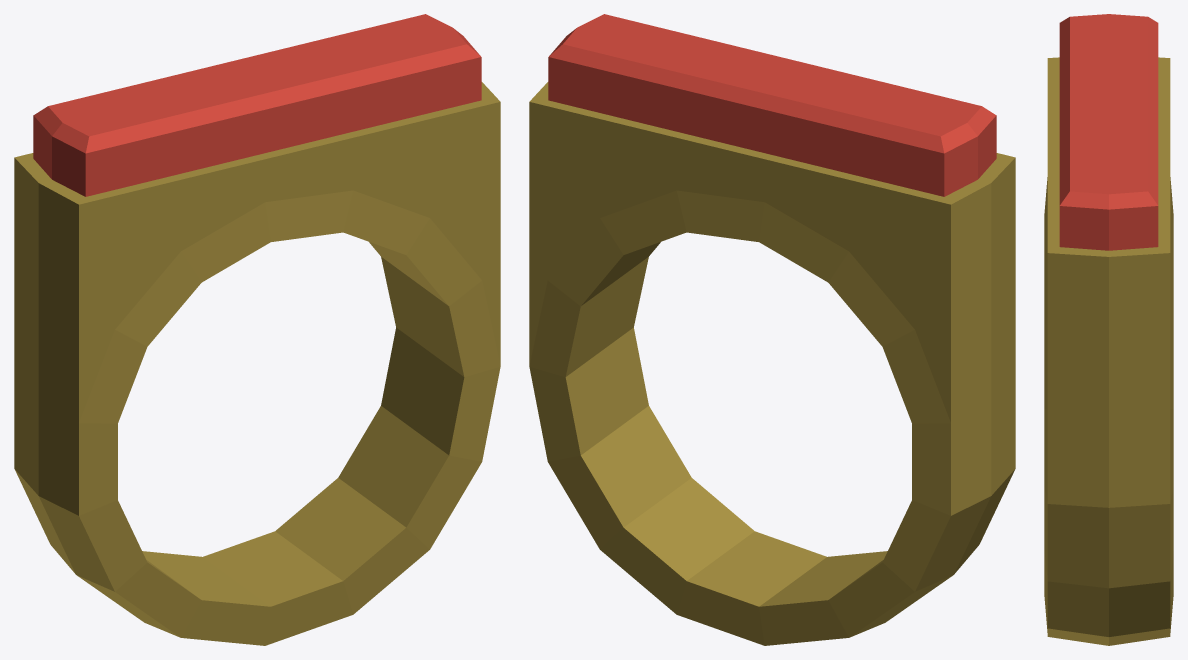
Rendered from quaternius-rpg-items-ring-3.glb.
The picture shows the model from 3 angles, left to right: view 1: azimuth 30°, elevation 25°; view 2: azimuth 150°, elevation 25°; view 3: azimuth 270°, elevation 25°; orthographic projection. The views are drawn at different scales.
Visible parts, largest first — view 1: Ring3; view 2: Ring3; view 3: Ring3.
Boxes of the visible parts, x1=… form: Ring3: x1=14, y1=14, x2=500, y2=645; Ring3: x1=529, y1=14, x2=1015, y2=645; Ring3: x1=1044, y1=14, x2=1173, y2=645.
Bounding box in the file's own units: 0.6693 × 0.8025 × 0.1804.
